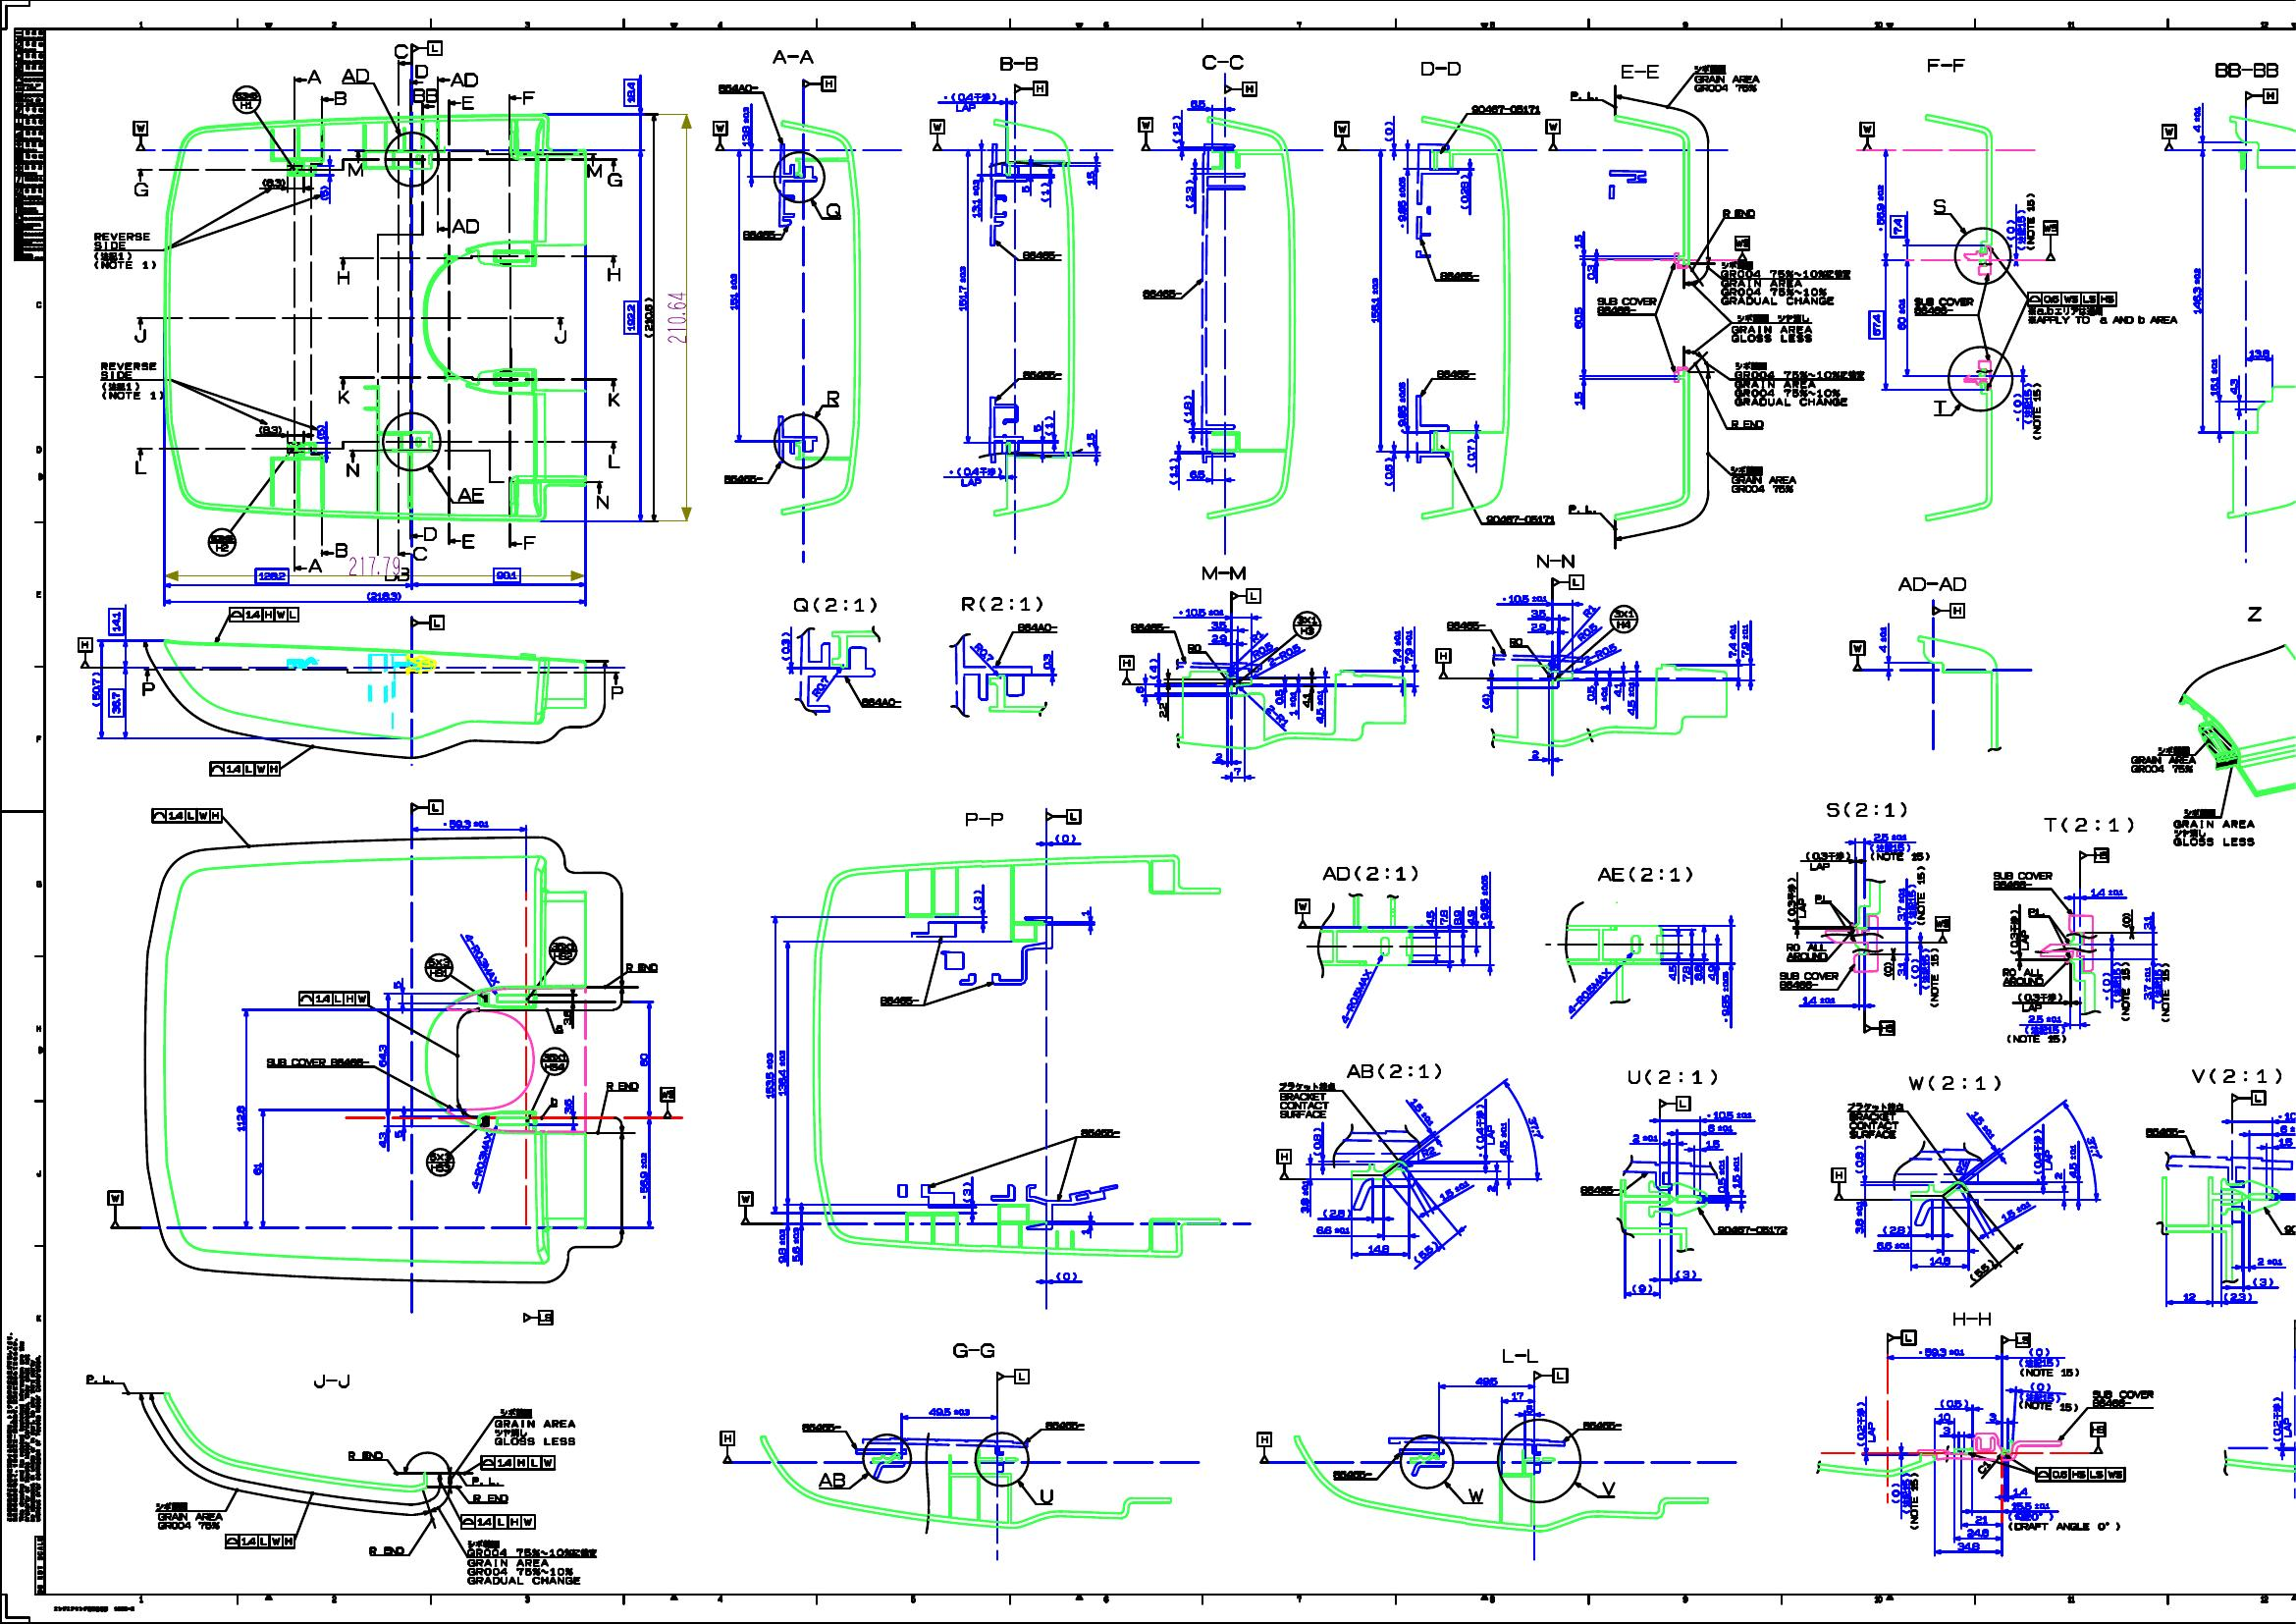anntotation_text: (4, 1330, 44, 1524), (1732, 360, 1867, 410), (466, 1538, 599, 1585), (1720, 260, 1852, 308), (2171, 808, 2257, 851), (494, 1404, 578, 1446), (2025, 306, 2180, 327), (98, 359, 163, 404), (1730, 313, 1815, 344), (91, 232, 160, 271), (1277, 1081, 1339, 1121), (2006, 1513, 2122, 1534), (1845, 1100, 1904, 1141), (1321, 861, 1419, 884), (1692, 62, 1760, 93), (2041, 814, 2134, 837), (1730, 464, 1797, 496), (1904, 1072, 2003, 1093), (1623, 1067, 1722, 1088), (155, 1501, 223, 1531), (1593, 865, 1693, 884), (1344, 1062, 1442, 1081), (2131, 743, 2194, 773), (956, 592, 1043, 613), (791, 594, 878, 615), (2189, 1065, 2282, 1084), (2210, 60, 2282, 81), (1823, 800, 1910, 817), (2034, 1468, 2126, 1483), (2089, 1387, 2155, 1408), (2015, 190, 2038, 251), (2022, 380, 2043, 443), (1990, 868, 2054, 889), (2112, 961, 2133, 1023), (2006, 1023, 2068, 1044), (1920, 947, 1941, 1009), (1778, 968, 1839, 990), (2018, 1357, 2080, 1378), (1474, 1102, 1497, 1158), (209, 759, 281, 777), (2027, 292, 2117, 306), (949, 466, 1003, 489), (942, 90, 996, 112), (1897, 575, 1967, 592), (228, 605, 299, 622), (1899, 1471, 1920, 1529), (1597, 295, 1658, 315), (1913, 295, 1975, 315), (2154, 961, 2173, 1023), (1804, 849, 1852, 874), (460, 1513, 534, 1529), (481, 1455, 555, 1471), (1853, 1399, 1878, 1446), (2018, 1392, 2078, 1411), (2008, 907, 2031, 956), (2017, 991, 2064, 1014), (1869, 842, 1931, 859), (1908, 863, 1925, 924), (2271, 1394, 2292, 1445), (51, 1603, 135, 1615), (149, 808, 221, 823), (223, 1533, 295, 1547), (1785, 875, 1806, 923), (299, 991, 369, 1005), (2032, 1128, 2052, 1178), (232, 83, 262, 114), (207, 526, 237, 557), (1291, 610, 1323, 640), (548, 935, 578, 967), (1618, 62, 1662, 83), (265, 1056, 369, 1065), (1607, 605, 1637, 634), (423, 953, 453, 982), (539, 1046, 569, 1076), (423, 1146, 453, 1176), (1418, 58, 1463, 77), (1198, 564, 1247, 582), (771, 47, 815, 67), (1534, 552, 1578, 571), (1783, 940, 1827, 960), (1924, 54, 1966, 74), (2001, 967, 2043, 986), (963, 808, 1005, 828), (950, 1341, 993, 1360), (450, 1155, 515, 1167), (1498, 1346, 1539, 1366), (996, 53, 1040, 70), (1200, 53, 1244, 70), (1470, 104, 1542, 114), (1716, 1223, 1788, 1234), (33, 1534, 46, 1596), (1484, 513, 1555, 524), (1325, 991, 1388, 1002), (450, 954, 513, 965), (1950, 1311, 1992, 1327), (2043, 220, 2059, 260), (803, 74, 836, 91), (929, 118, 947, 151), (411, 798, 444, 816), (1045, 808, 1082, 824), (311, 1374, 351, 1388), (448, 70, 480, 88), (815, 1469, 847, 1487), (107, 1190, 121, 1229), (1223, 81, 1256, 97), (1850, 638, 1866, 671), (411, 615, 444, 631), (720, 1429, 736, 1462), (996, 1369, 1029, 1385), (1534, 1367, 1567, 1383), (2089, 1420, 2105, 1454), (341, 65, 371, 83), (455, 487, 485, 504), (1859, 121, 1876, 151), (2080, 847, 2110, 865), (1558, 986, 1618, 995), (1578, 1183, 1620, 1195), (450, 220, 481, 236), (1138, 118, 1154, 149), (1546, 120, 1562, 151), (738, 1192, 754, 1223), (1999, 1332, 2031, 1348), (1830, 1167, 1846, 1199), (1658, 1095, 1690, 1111), (1140, 286, 1180, 299), (1130, 620, 1170, 633), (880, 993, 921, 1005), (2231, 1090, 2266, 1104), (1014, 620, 1059, 631), (346, 1448, 385, 1461), (367, 1543, 406, 1555), (471, 1492, 509, 1504), (132, 120, 148, 149), (711, 120, 727, 149), (1333, 121, 1349, 151), (1231, 589, 1261, 605), (1117, 654, 1133, 684), (77, 638, 93, 668), (1864, 1019, 1894, 1035), (1256, 1432, 1272, 1462), (1887, 1329, 1917, 1345), (1275, 1148, 1291, 1178), (523, 1309, 553, 1325), (1014, 81, 1047, 95), (1565, 499, 1599, 513), (2243, 88, 2277, 102), (1931, 603, 1964, 617), (661, 1086, 675, 1120), (1444, 620, 1488, 631), (1043, 1418, 1087, 1429), (1729, 417, 1765, 429), (411, 40, 443, 54), (1021, 367, 1063, 378), (1021, 248, 1063, 258), (1439, 269, 1481, 279), (1551, 575, 1583, 589), (1435, 649, 1451, 677), (861, 696, 903, 707), (2143, 1125, 2185, 1135), (1734, 236, 1751, 260), (741, 228, 782, 239), (1435, 367, 1476, 378), (1332, 1468, 1372, 1478), (1583, 1418, 1623, 1429), (1296, 898, 1310, 928), (2161, 123, 2177, 149), (2243, 605, 2264, 624), (413, 86, 437, 102), (627, 960, 659, 972), (604, 170, 625, 188), (715, 83, 757, 91), (1936, 916, 1950, 942), (1077, 1127, 1119, 1135), (1569, 88, 1599, 100), (606, 1081, 639, 1091), (471, 1475, 504, 1485), (585, 162, 604, 179), (608, 684, 627, 701), (132, 181, 153, 197), (84, 1373, 114, 1383), (306, 69, 323, 86), (346, 162, 364, 179), (460, 533, 478, 550), (411, 543, 429, 561), (824, 200, 841, 218), (824, 388, 841, 406), (1722, 207, 1757, 216), (1931, 197, 1948, 214), (139, 680, 156, 698), (132, 459, 148, 478), (522, 88, 538, 107), (553, 329, 569, 348), (799, 1422, 841, 1429), (722, 475, 762, 482), (132, 327, 148, 344), (330, 541, 348, 557), (344, 462, 360, 480), (594, 496, 611, 511), (1932, 397, 1948, 415), (1038, 1485, 1054, 1503), (1467, 1487, 1484, 1503), (332, 90, 348, 105), (307, 557, 323, 573), (606, 265, 622, 281), (606, 455, 622, 471), (336, 388, 350, 406), (393, 42, 408, 60), (460, 93, 474, 111), (606, 390, 620, 408), (422, 526, 439, 540), (522, 534, 536, 550), (1600, 1480, 1616, 1494), (2027, 905, 2047, 916), (336, 271, 350, 285), (415, 65, 429, 79), (1815, 893, 1832, 903)
dimension_text: (666, 290, 687, 344), (348, 555, 401, 575), (1476, 872, 1491, 926), (1367, 276, 1381, 323), (2191, 264, 2203, 315), (762, 1051, 775, 1100), (775, 1049, 787, 1097), (107, 687, 126, 717), (1397, 174, 1407, 228), (624, 299, 639, 334), (740, 104, 752, 148), (926, 1404, 970, 1417), (638, 1149, 648, 1200), (1874, 181, 1885, 232), (255, 568, 288, 584), (957, 264, 968, 313), (1175, 606, 1224, 617), (441, 817, 490, 828), (1706, 1109, 1753, 1120), (1397, 381, 1407, 429), (1500, 592, 1548, 603), (2208, 357, 2220, 397), (1722, 968, 1730, 1025), (90, 670, 102, 707), (791, 1225, 803, 1262), (107, 608, 123, 636), (971, 178, 982, 220), (1997, 1204, 2032, 1216), (1391, 629, 1404, 664), (1918, 1346, 1967, 1355), (729, 272, 740, 313), (1265, 649, 1305, 659), (494, 568, 520, 584), (624, 79, 639, 105), (1298, 1179, 1310, 1213), (364, 591, 402, 601), (1869, 311, 1883, 339), (1853, 1142, 1866, 1174), (1910, 956, 1920, 993), (1180, 392, 1193, 424), (1876, 624, 1888, 656), (1404, 627, 1414, 664), (780, 631, 792, 663), (645, 295, 653, 339), (1437, 1185, 1472, 1195), (1314, 1225, 1349, 1236), (1460, 174, 1470, 209), (1741, 624, 1751, 659), (1316, 689, 1326, 724), (2068, 1142, 2078, 1178), (1978, 1109, 1989, 1144), (1411, 1246, 1440, 1258), (1166, 457, 1179, 487), (1890, 214, 1906, 237), (1964, 1265, 1997, 1276), (2090, 886, 2124, 896), (1383, 455, 1393, 489), (1895, 297, 1906, 330), (1727, 624, 1737, 657), (1323, 1207, 1351, 1220), (260, 176, 288, 188), (1897, 884, 1906, 923), (1581, 649, 1620, 657), (1880, 1223, 1911, 1234), (2011, 392, 2022, 424), (1938, 1397, 1969, 1408), (1706, 1121, 1732, 1134), (1498, 1121, 1507, 1158), (2027, 1014, 2064, 1023), (1570, 304, 1583, 330), (2003, 216, 2015, 243), (778, 1227, 787, 1264), (1312, 1127, 1323, 1156), (1184, 178, 1195, 207), (1172, 114, 1182, 144), (1261, 710, 1291, 721), (235, 1104, 246, 1134), (1874, 1241, 1910, 1250), (1716, 1158, 1725, 1193), (2143, 967, 2152, 1002), (1627, 682, 1635, 717), (2250, 1274, 2275, 1287), (2191, 105, 2201, 134), (2256, 1255, 2284, 1265), (1732, 1156, 1741, 1190), (1418, 1095, 1426, 1128), (1801, 995, 1834, 1004), (2010, 1503, 2050, 1510), (1853, 1202, 1862, 1234), (2101, 972, 2110, 1004), (1599, 685, 1609, 712), (1288, 689, 1298, 715), (1249, 645, 1275, 656), (376, 1042, 386, 1069), (1474, 1374, 1500, 1385), (1467, 438, 1476, 468), (1530, 1114, 1541, 1139), (1367, 1243, 1391, 1253), (2249, 346, 2270, 359), (971, 647, 996, 657), (971, 886, 982, 910), (1966, 1527, 1990, 1538), (2089, 1135, 2099, 1160), (1040, 179, 1049, 207), (1929, 1255, 1952, 1265), (258, 424, 281, 434), (1054, 833, 1077, 844), (1056, 1271, 1079, 1281), (1632, 1134, 1658, 1142), (806, 682, 833, 691), (2224, 1292, 2250, 1301), (1632, 1283, 1653, 1294), (2031, 1380, 2052, 1390), (1425, 909, 1437, 926), (1451, 909, 1463, 926), (1881, 960, 1894, 977), (314, 424, 327, 441), (1384, 120, 1393, 144), (1149, 656, 1158, 680), (2229, 376, 2240, 395), (1481, 691, 1491, 710), (2277, 1123, 2296, 1134), (1674, 1269, 1697, 1278), (1576, 629, 1599, 638), (963, 1179, 971, 1202), (1890, 1482, 1899, 1504), (1957, 1541, 1980, 1550), (2027, 1346, 2050, 1355), (1084, 431, 1096, 446), (1189, 468, 1205, 480), (1509, 634, 1525, 647), (1419, 1148, 1437, 1158), (1045, 415, 1054, 436), (1189, 97, 1207, 107), (1586, 684, 1595, 705), (1158, 700, 1168, 717), (378, 1128, 386, 1149), (2277, 1135, 2294, 1146), (1952, 1160, 1969, 1171), (1511, 1388, 1525, 1401), (1585, 264, 1593, 283), (2277, 1111, 2296, 1120), (1706, 1137, 1722, 1148), (1667, 965, 1678, 981), (1895, 961, 1906, 977), (1084, 170, 1094, 186), (1613, 682, 1623, 698), (1581, 606, 1597, 617), (1302, 692, 1312, 708), (1274, 689, 1284, 705), (1188, 642, 1203, 652), (1210, 633, 1226, 643), (1042, 652, 1052, 668), (1936, 1411, 1952, 1422), (1975, 1513, 1990, 1524), (1467, 909, 1476, 926), (1681, 965, 1690, 982), (1693, 963, 1702, 981), (1708, 965, 1716, 982), (1574, 388, 1583, 406), (1574, 234, 1583, 251), (1530, 608, 1548, 617), (1530, 622, 1548, 631), (638, 1051, 646, 1069), (251, 1162, 262, 1176), (1439, 909, 1448, 924), (2143, 916, 2152, 932), (2122, 912, 2131, 928), (1210, 620, 1226, 629), (562, 1009, 571, 1025), (564, 1098, 573, 1114), (2013, 1487, 2029, 1496), (1976, 1462, 1992, 1471), (548, 1095, 559, 1107), (2284, 1223, 2296, 1234), (1249, 633, 1263, 642), (1484, 1183, 1495, 1193), (1031, 422, 1042, 432), (1530, 749, 1541, 759), (1021, 183, 1029, 195), (2184, 1292, 2196, 1301), (1135, 684, 1145, 692), (1214, 750, 1224, 759), (1233, 766, 1242, 777), (390, 981, 401, 990), (392, 1128, 402, 1137), (1989, 1411, 1997, 1422), (1525, 1404, 1534, 1413), (1943, 1425, 1952, 1434), (2054, 1171, 2062, 1179), (555, 1023, 562, 1032)
object: (141, 835, 624, 1283), (163, 111, 588, 522), (812, 851, 1223, 1258), (139, 638, 604, 759), (1200, 114, 1300, 520), (1291, 1434, 1711, 1531), (1414, 114, 1513, 524), (757, 1434, 1172, 1529), (137, 1392, 450, 1515), (1607, 116, 1692, 522), (991, 114, 1075, 517), (780, 120, 863, 515), (1924, 111, 1994, 524), (2226, 111, 2294, 517), (1491, 652, 1729, 749), (2177, 645, 2296, 798), (1179, 670, 1407, 749), (2159, 1153, 2294, 1283), (1813, 1432, 2064, 1480), (1915, 634, 1999, 750), (1563, 923, 1667, 1002), (1903, 1146, 1994, 1236), (1335, 1130, 1433, 1213), (950, 633, 1047, 715), (796, 626, 882, 715), (1318, 893, 1414, 968), (1618, 1178, 1708, 1251), (2036, 912, 2099, 1014), (1823, 877, 1881, 975), (2224, 1446, 2296, 1475)
title_block: (12, 26, 47, 262)
